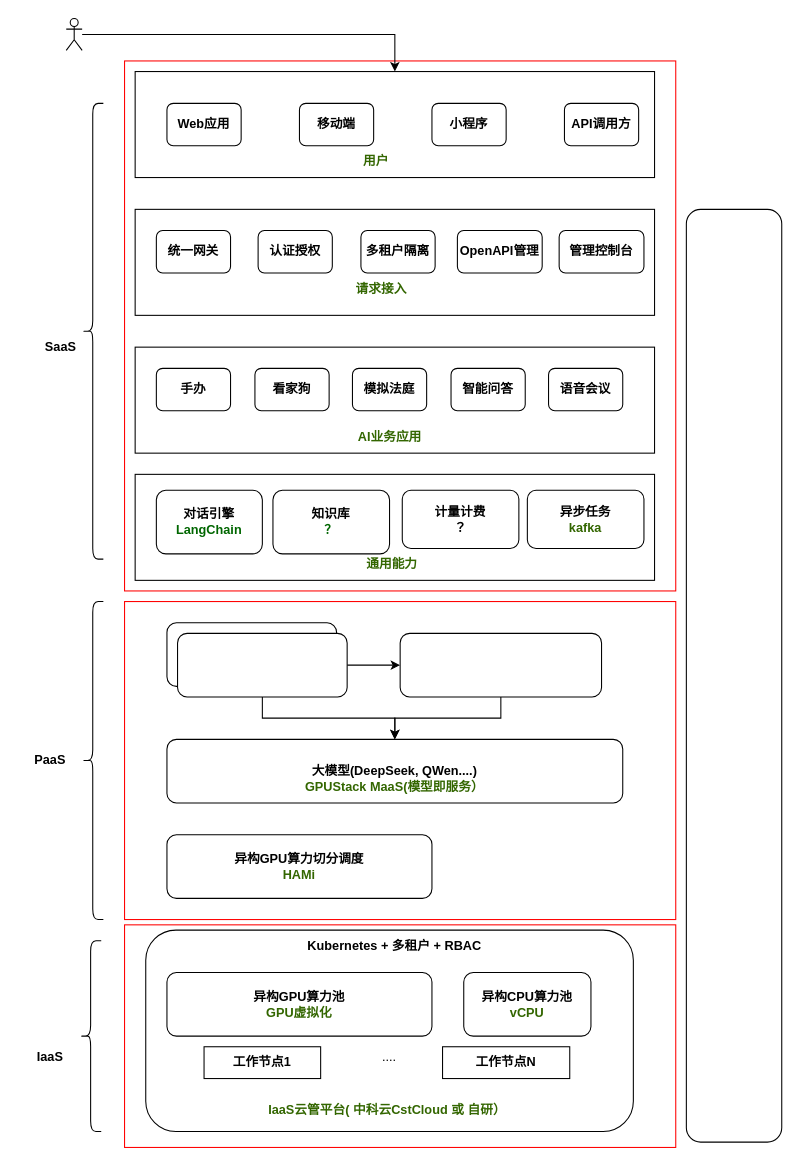
Image size: 800x1166. Some labels were removed from this diagram. The centre of each missing label's shape, as x and y in pixels:
"Actor" goes at (x=73, y=33).
"全栈观测 Grafana, Prometheus, OTel and Opik等" goes at (x=733, y=675).
"模型路由+脱密 OpenClaw + ClawXRouter" goes at (x=261, y=664).
"流量调度+负载均衡+花费跟踪 LiteLLM" goes at (x=500, y=664).
